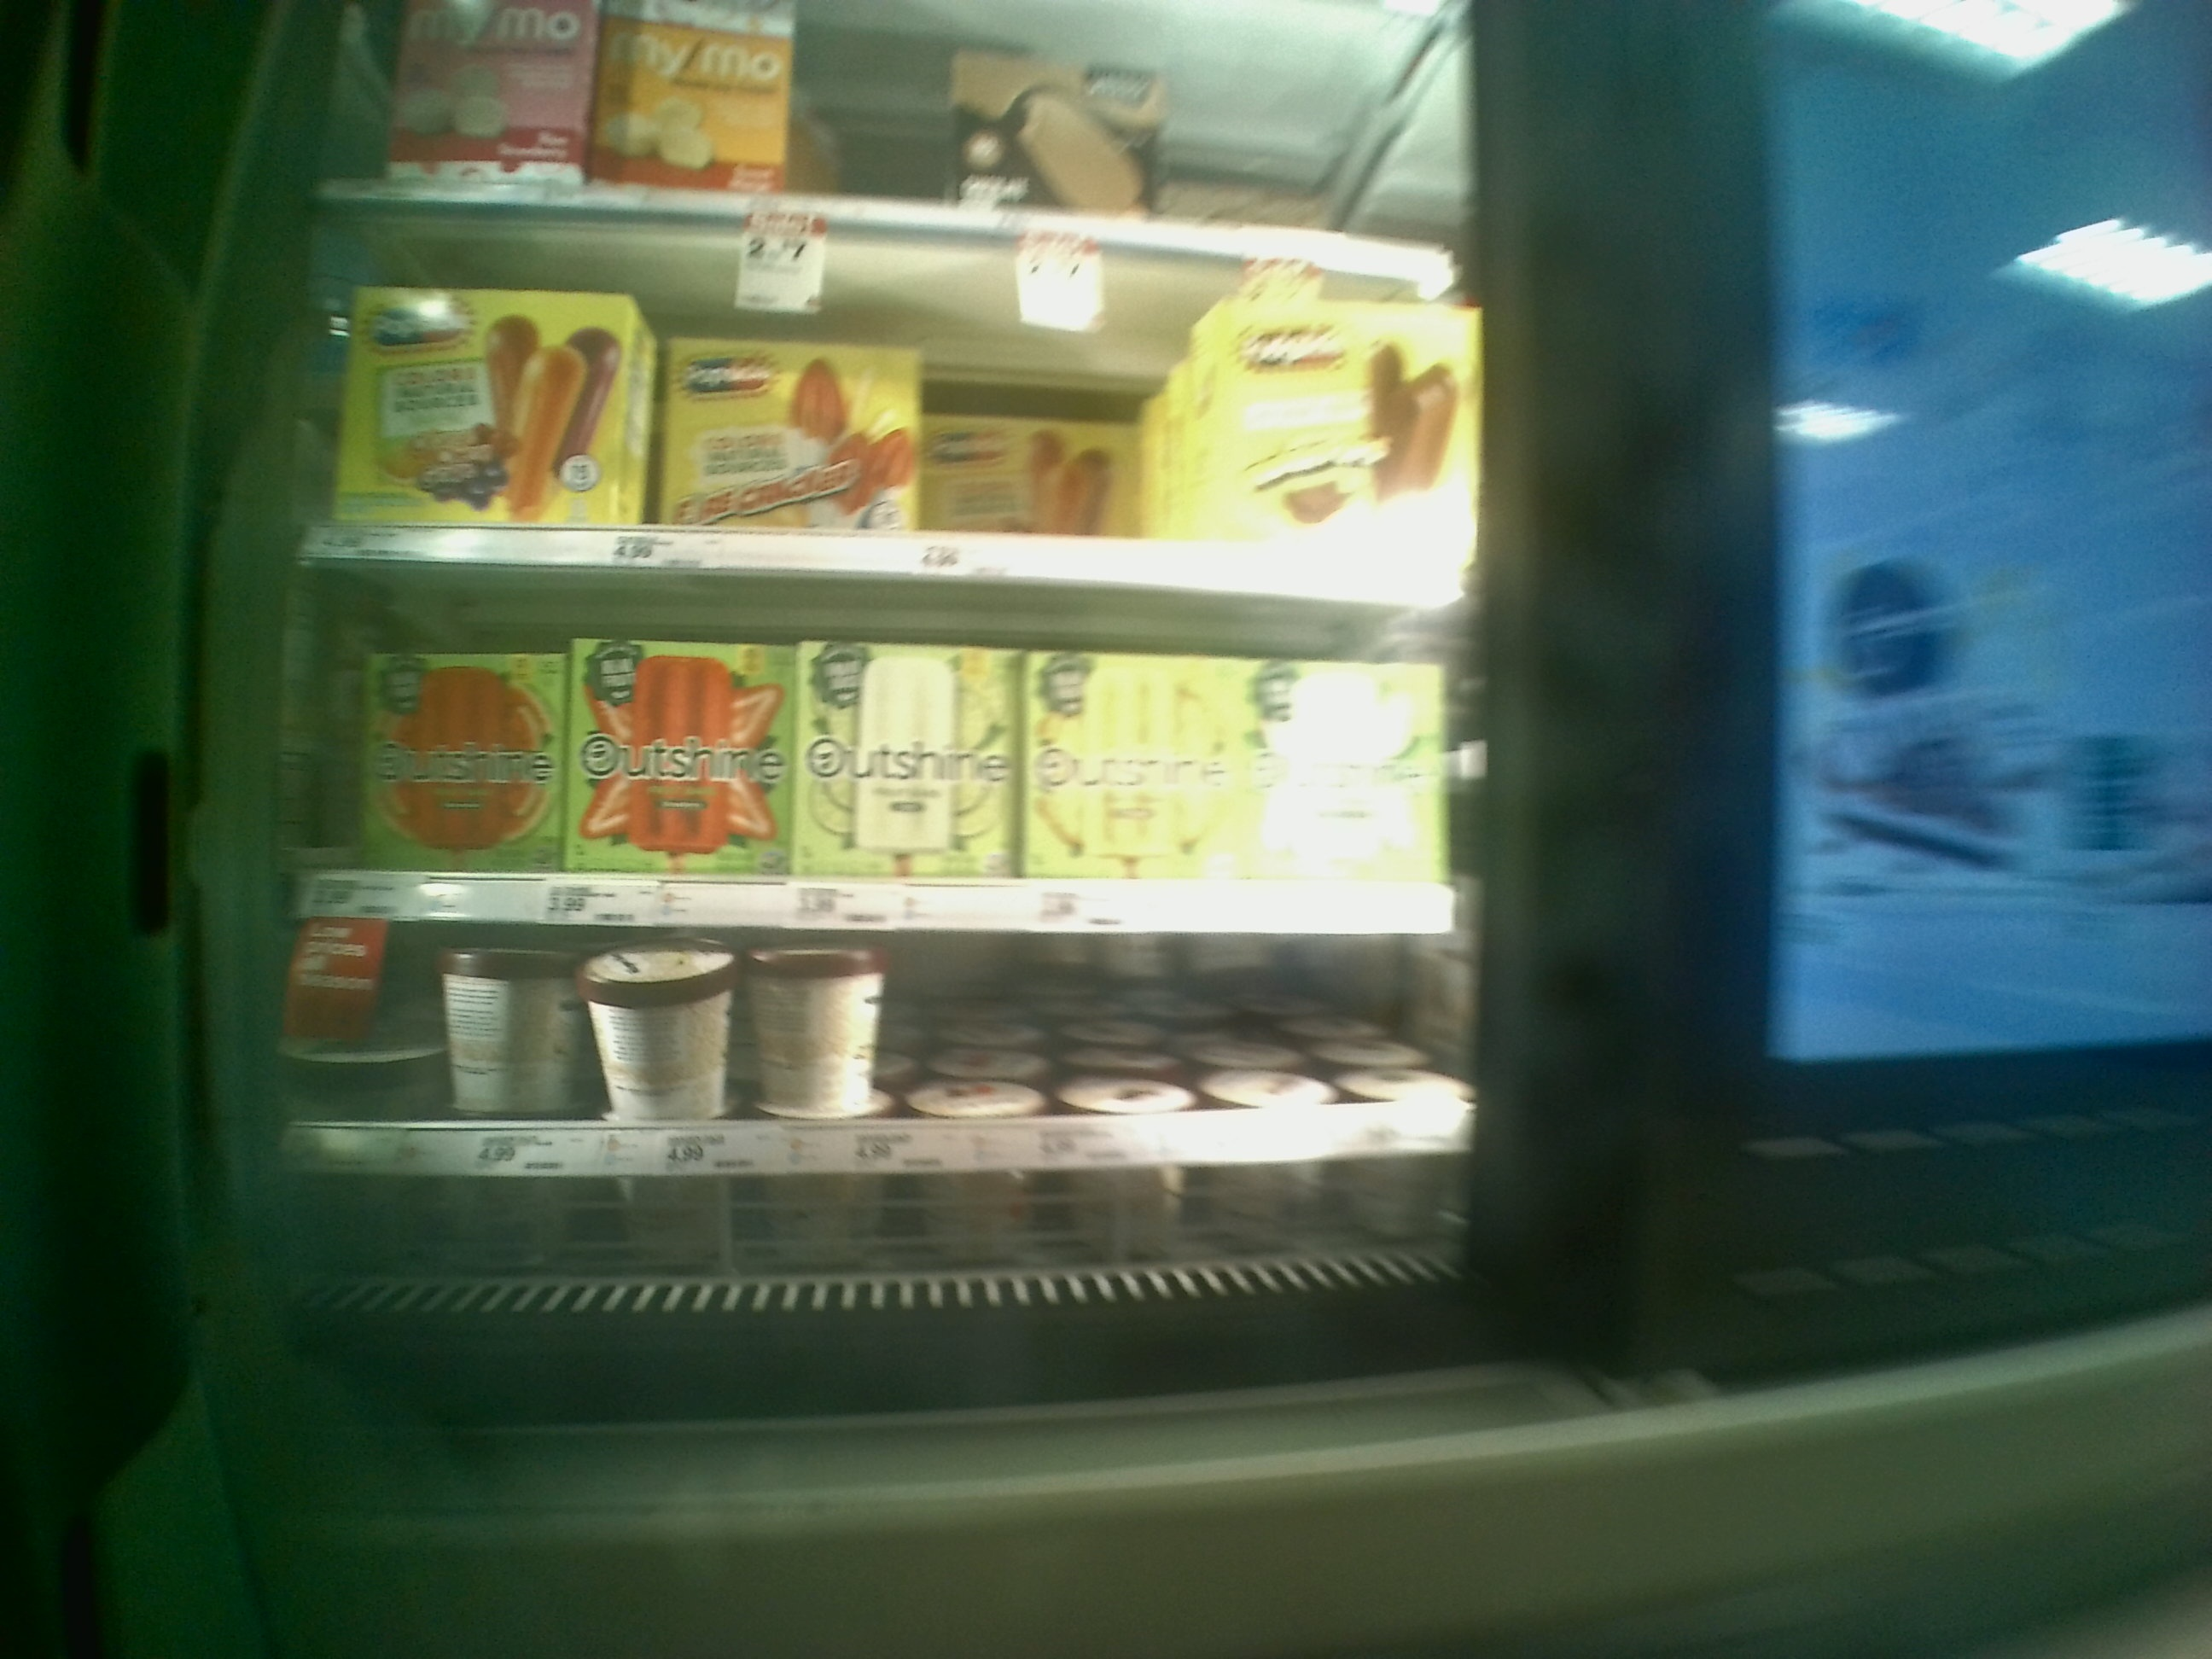ice-cream-shelf: (296, 563, 1468, 934), (314, 209, 1489, 579), (296, 924, 1479, 1178)
